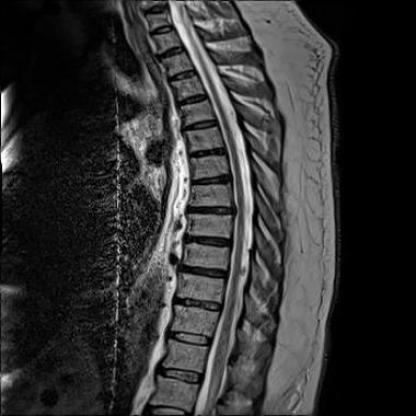Osteophytesrotation: (132, 1, 240, 416)
